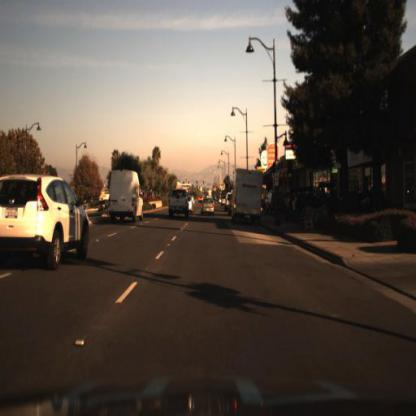car: (2, 168, 93, 275), (103, 162, 148, 232), (230, 165, 268, 232), (165, 190, 192, 221), (265, 187, 285, 223), (198, 199, 217, 220)
truck: (105, 170, 149, 227), (228, 166, 266, 226)
